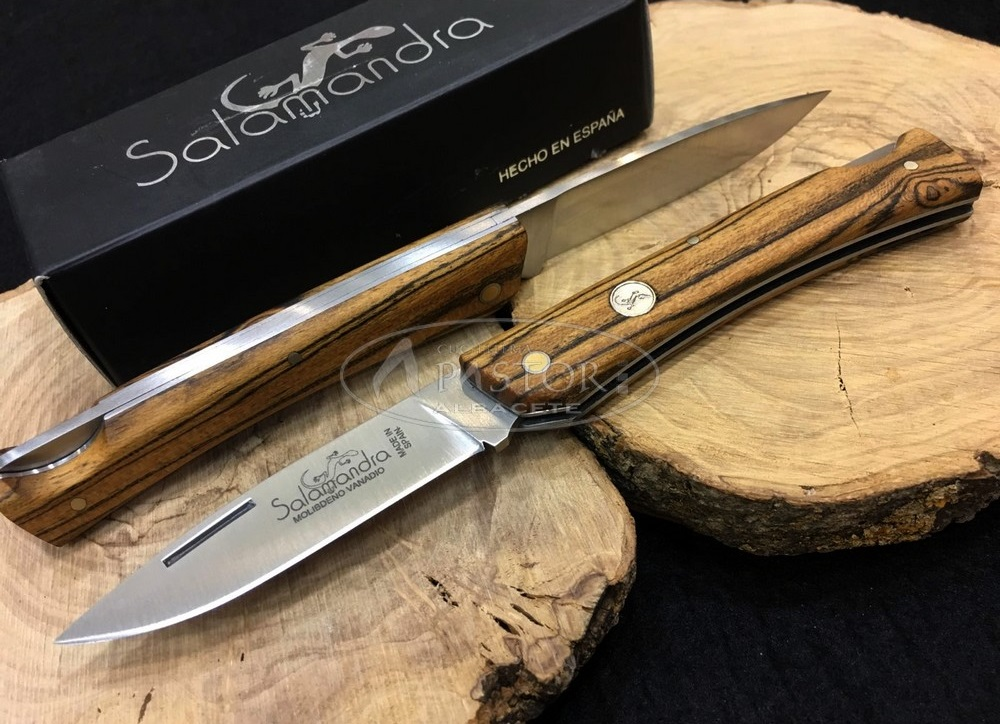knife: (39, 343, 529, 651), (503, 85, 849, 290)
